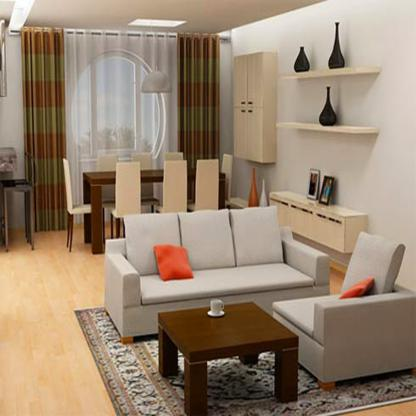bantal: (153, 244, 195, 277)
kursi: (60, 158, 87, 248), (209, 299, 223, 316)
sova: (99, 208, 332, 324), (291, 235, 416, 377)
tanaman: (155, 299, 303, 413)
